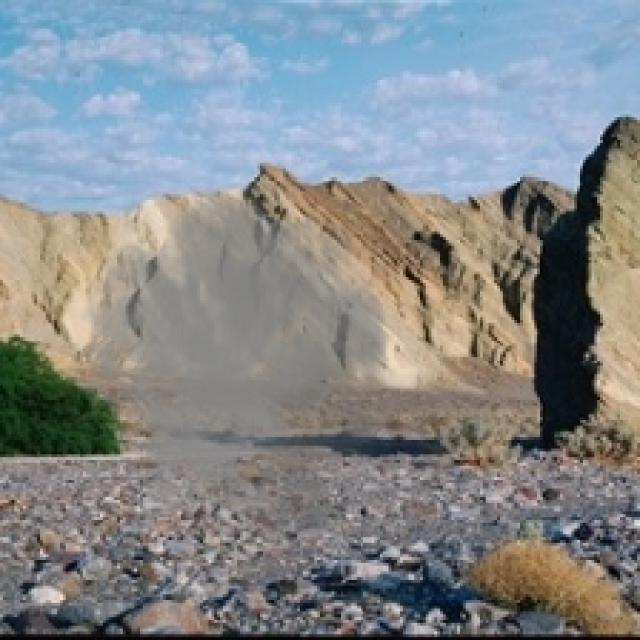smoke: (80, 171, 497, 560)
